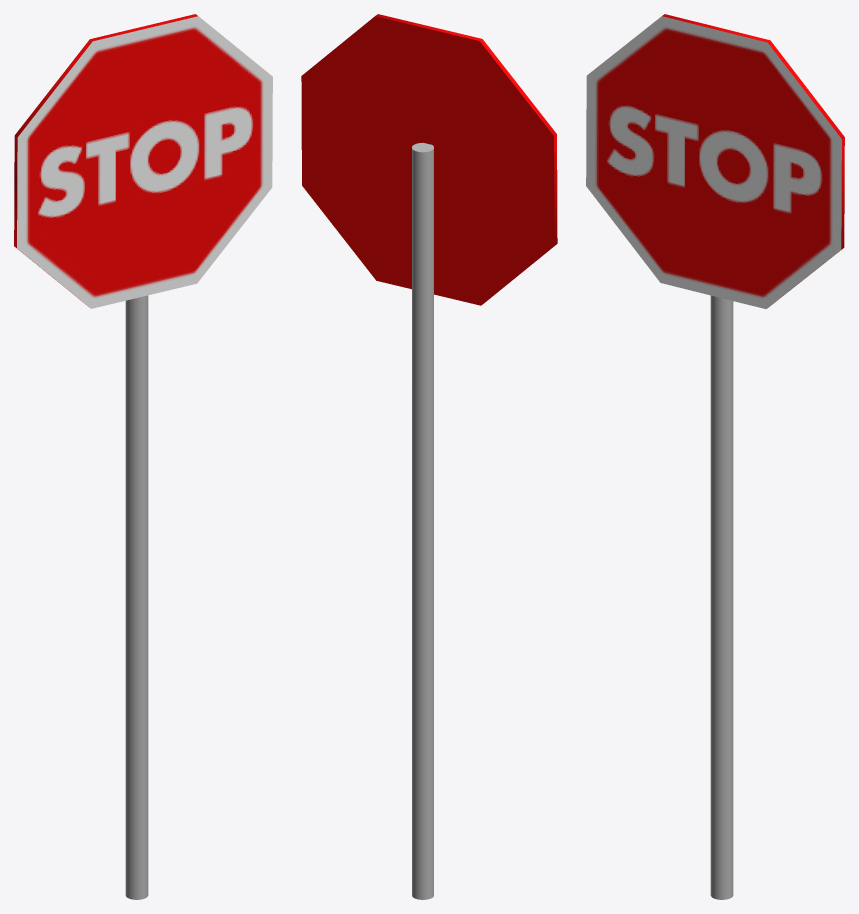
File: Stop Sign.FBX
3 views of the same model, side by side, from view 1: azimuth 30°, elevation 25°; view 2: azimuth 150°, elevation 25°; view 3: azimuth 330°, elevation 25° (orthographic).
Parts seen in each view (by area): view 1: Cylinder002, Cylinder001; view 2: Cylinder002, Cylinder001; view 3: Cylinder002, Cylinder001.
Part boxes in pixels (x1,y1,x2,y2): Cylinder002: (14, 14, 272, 308); Cylinder001: (125, 295, 148, 899); Cylinder002: (301, 14, 557, 305); Cylinder001: (412, 143, 433, 899); Cylinder002: (586, 14, 844, 308); Cylinder001: (710, 295, 733, 899).
Bounding box in the file's own units: 25.52 × 83.12 × 2.35.
